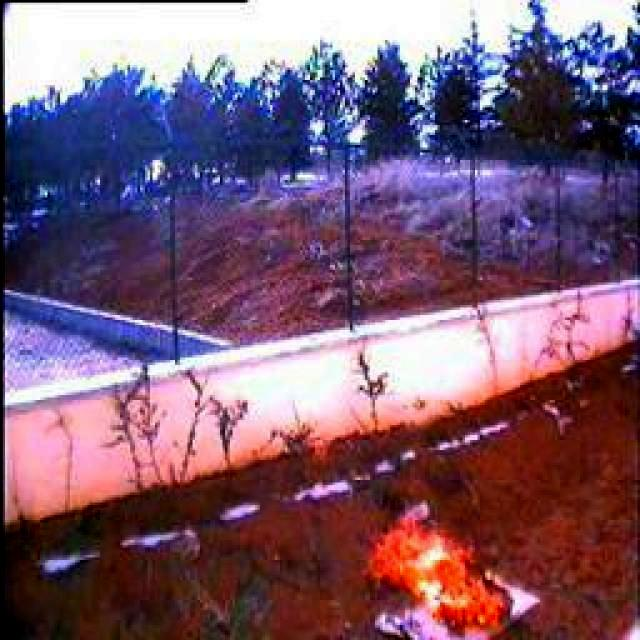fire: (365, 511, 519, 640)
